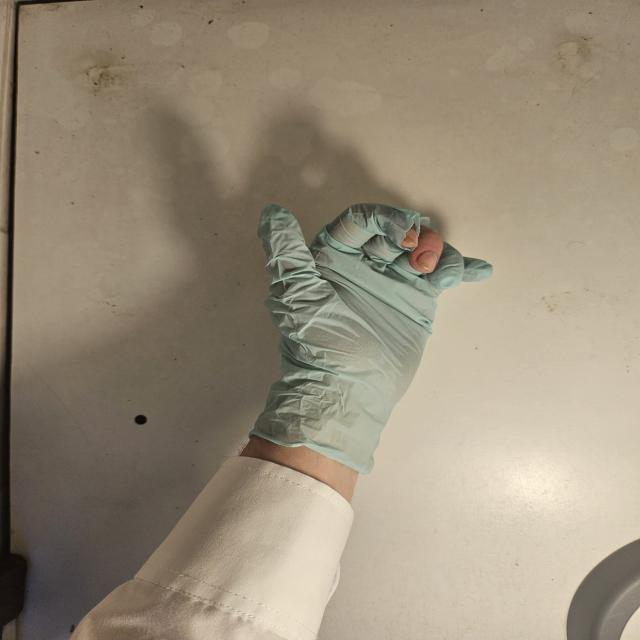gloves_damaged: (246, 198, 490, 475)
